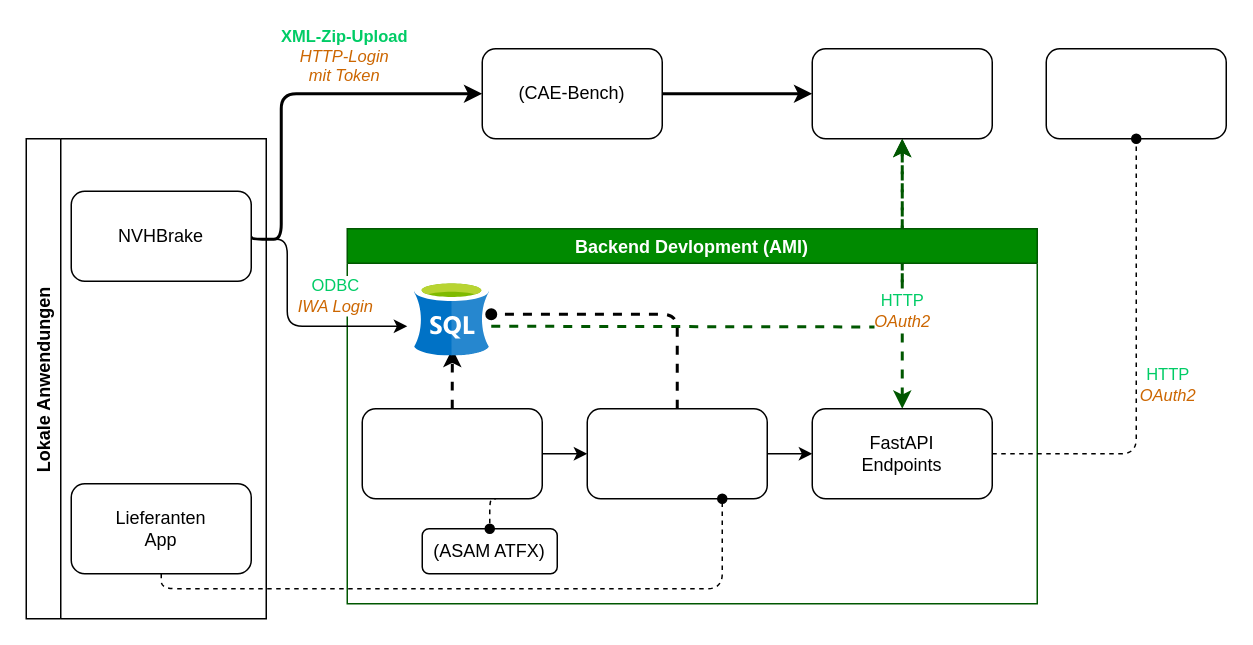
Image size: 1253x645. Some labels were removed from this diagram. Each missing label, with the centre of its shape:
"div. Frontend auch lokale Möglichkeiten" goes at (1135,93).
"Integrate App" goes at (901,93).
"Python Module Logik-Dev" goes at (676,453).
"SQL Modell Objektdefinition" goes at (451,453).
